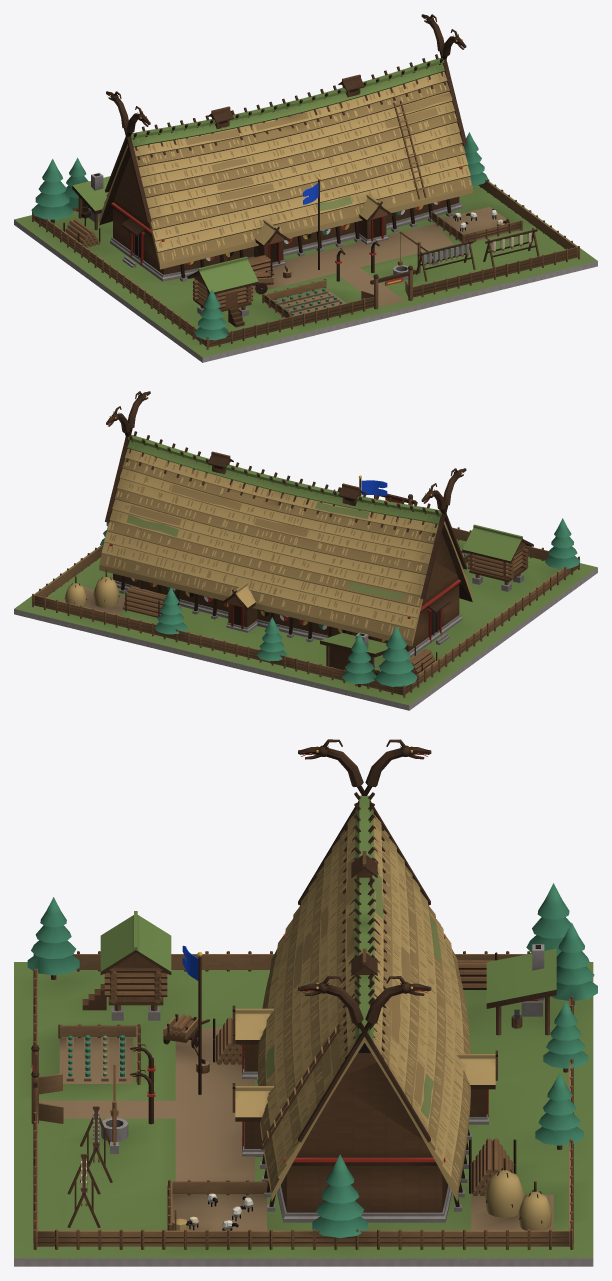
File: lm_uzunev.glb
3 renders of one model, top to bottom at view 1: azimuth 30°, elevation 25°; view 2: azimuth 150°, elevation 25°; view 3: azimuth 270°, elevation 25°, orthographic. The views are drawn at different scales.
Parts seen in each view (by area): view 1: lm_uzunev; view 2: lm_uzunev; view 3: lm_uzunev.
Boxes of the visible parts, left/top/right/bottom form: lm_uzunev: left=14, top=14, right=597, bottom=362; lm_uzunev: left=14, top=391, right=597, bottom=710; lm_uzunev: left=14, top=739, right=597, bottom=1266.
Bounding box in the file's own units: 2.3 × 0.9435 × 1.92.
Materials: 1 (1 with a texture image).
